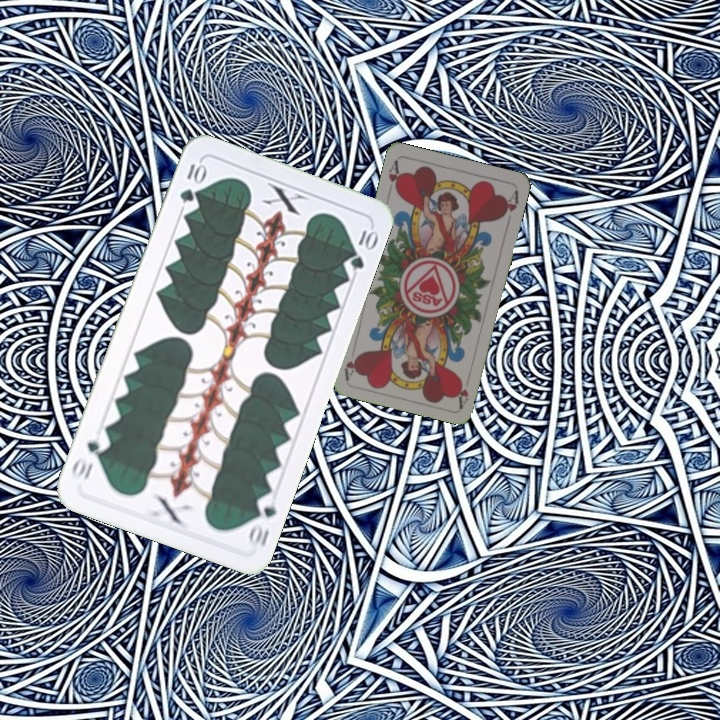G10: (244, 490, 279, 550), (175, 157, 208, 206)
HA: (384, 156, 404, 196), (453, 369, 472, 409)
